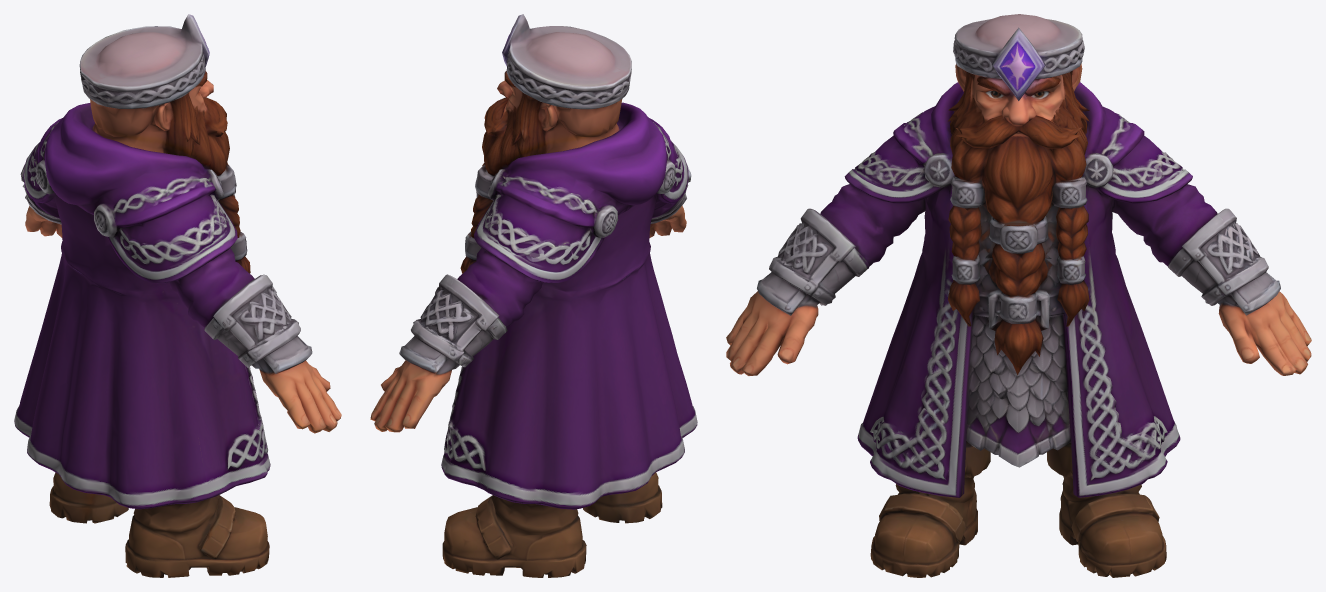
Rendered from dwarf_warden_b_raw.glb.
3 renders of one model, left to right at view 1: azimuth 30°, elevation 25°; view 2: azimuth 150°, elevation 25°; view 3: azimuth 270°, elevation 25°, orthographic. The views are drawn at different scales.
Parts seen in each view (by area): view 1: tripo_node_7b7de88a-4cb7-4675-9a86-26594f91a07b; view 2: tripo_node_7b7de88a-4cb7-4675-9a86-26594f91a07b; view 3: tripo_node_7b7de88a-4cb7-4675-9a86-26594f91a07b.
Boxes of the visible parts, x1,y1,x2,y2 form: tripo_node_7b7de88a-4cb7-4675-9a86-26594f91a07b: [14, 14, 341, 577]; tripo_node_7b7de88a-4cb7-4675-9a86-26594f91a07b: [370, 14, 697, 577]; tripo_node_7b7de88a-4cb7-4675-9a86-26594f91a07b: [726, 14, 1311, 577].
Size of the model in its own units: 0.3999 by 1 by 0.9886.
Materials: 1 (1 with a texture image).
